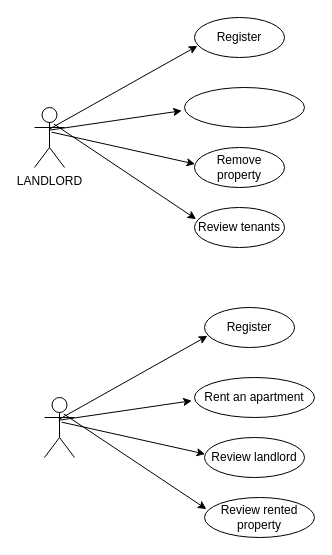
Some shapes in this 332 by 555 pixel diagram are drawn without their labels. The shapes that lost their labels are listed below. From the top down, each one's box as (x1, y1, x2, y2) in pixels, then its label:
(184, 86, 304, 128): Add property for rent/sale
(44, 396, 74, 458): RENTER
